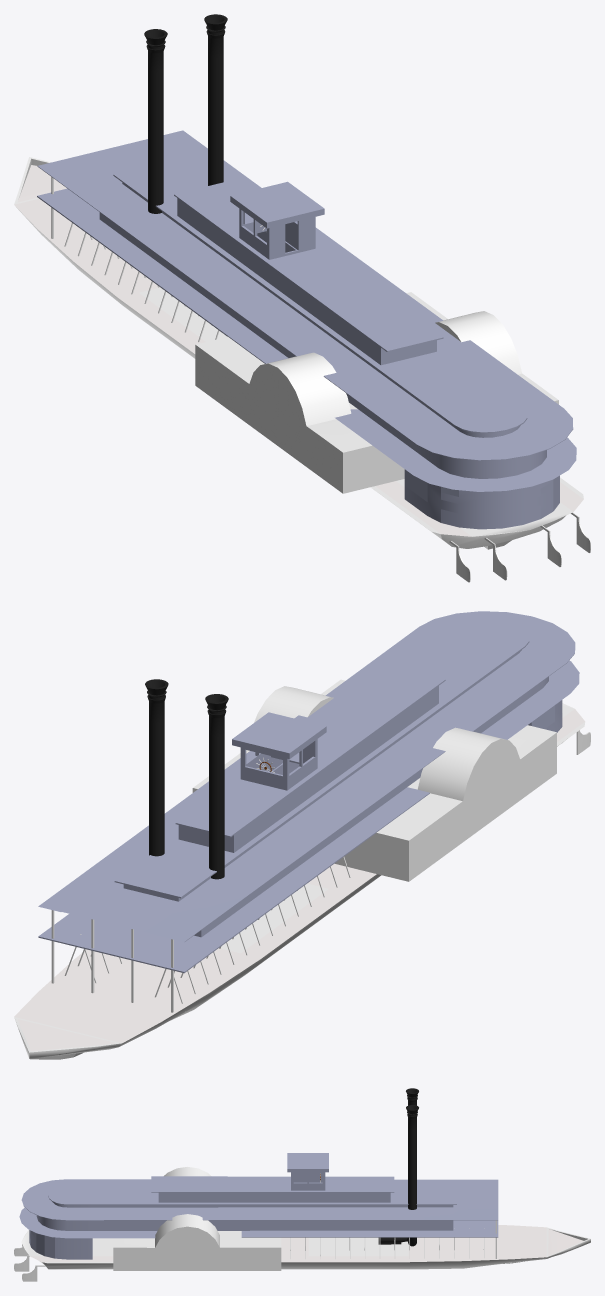
File: riverboat-02.obj
3 views of the same model, one above another, from view 1: azimuth 30°, elevation 25°; view 2: azimuth 150°, elevation 25°; view 3: azimuth 270°, elevation 25° (orthographic). The views are drawn at different scales.
Visible parts, largest first — view 1: Cylinder, Cylinder.1, BOW, smoke_staff.3, smoke_staff.2, Cylinder.2; view 2: Cylinder, BOW, Cylinder.1, smoke_staff.3, smoke_staff.2, Cylinder.2; view 3: Cylinder, BOW, Cylinder.2, smoke_staff.2, smoke_staff.3, Cylinder.1.
Part boxes in pixels (x1,y1,x2,y2): Cylinder: (37,130,576,529); Cylinder.1: (195,336,404,493); BOW: (14,157,583,549); smoke_staff.3: (144,29,167,213); smoke_staff.2: (204,14,227,185); Cylinder.2: (406,292,558,404); Cylinder: (38,611,579,973); BOW: (14,703,585,1059); Cylinder.1: (335,725,556,881); smoke_staff.3: (205,694,228,879); smoke_staff.2: (145,679,168,856); Cylinder.2: (192,679,345,792); Cylinder: (19,1153,498,1259); BOW: (21,1225,590,1269); Cylinder.2: (113,1214,281,1270); smoke_staff.2: (406,1105,418,1246); smoke_staff.3: (378,1088,418,1244); Cylinder.1: (164,1167,211,1176).
Size of the model in its own units: 238 by 310 by 968.
